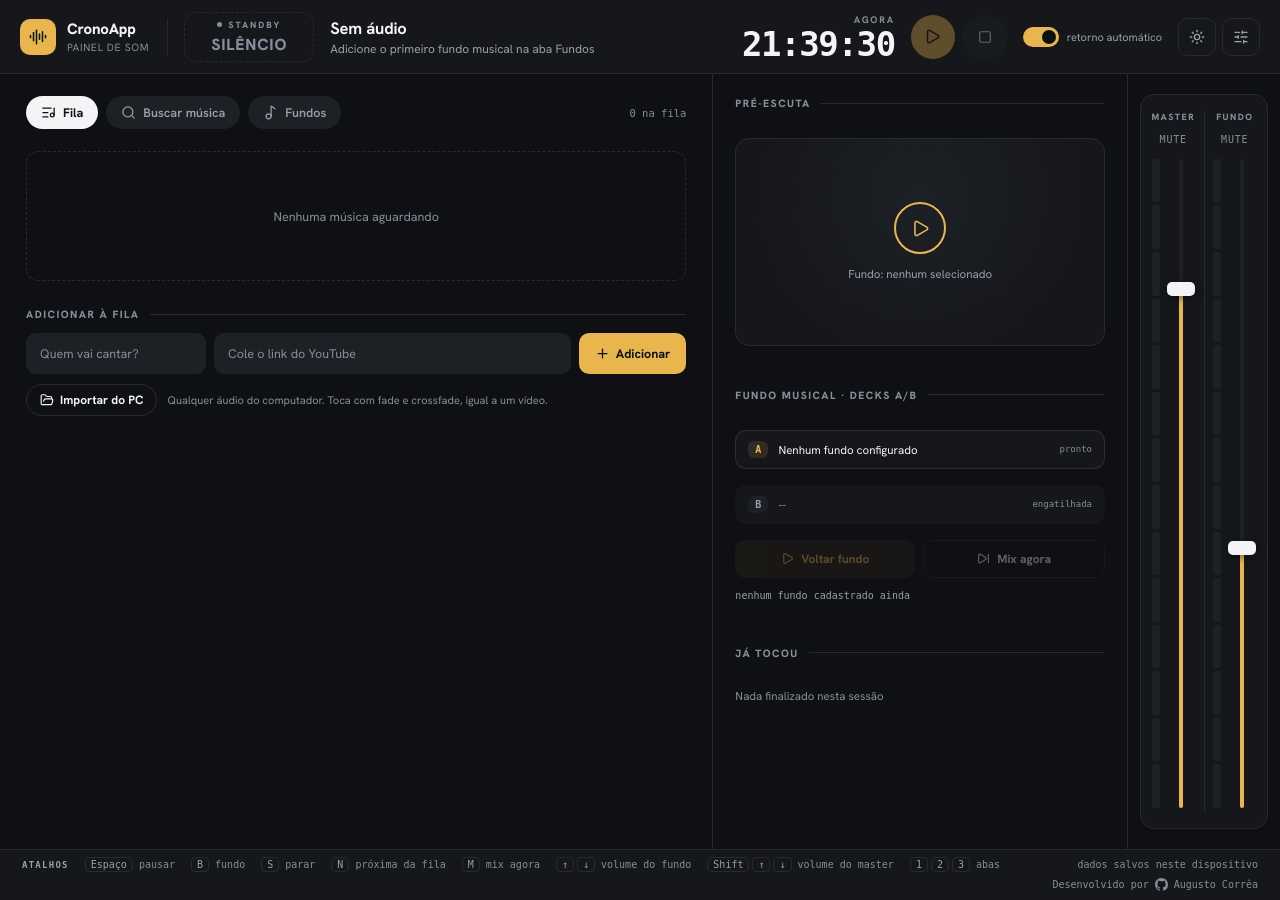
Test: cadastrar fundo colando o link (sem depender da busca) › sem nome, a faixa entra como "Fundo musical"
The width and height of the screenshot is (1280, 900).
Type keys "3"
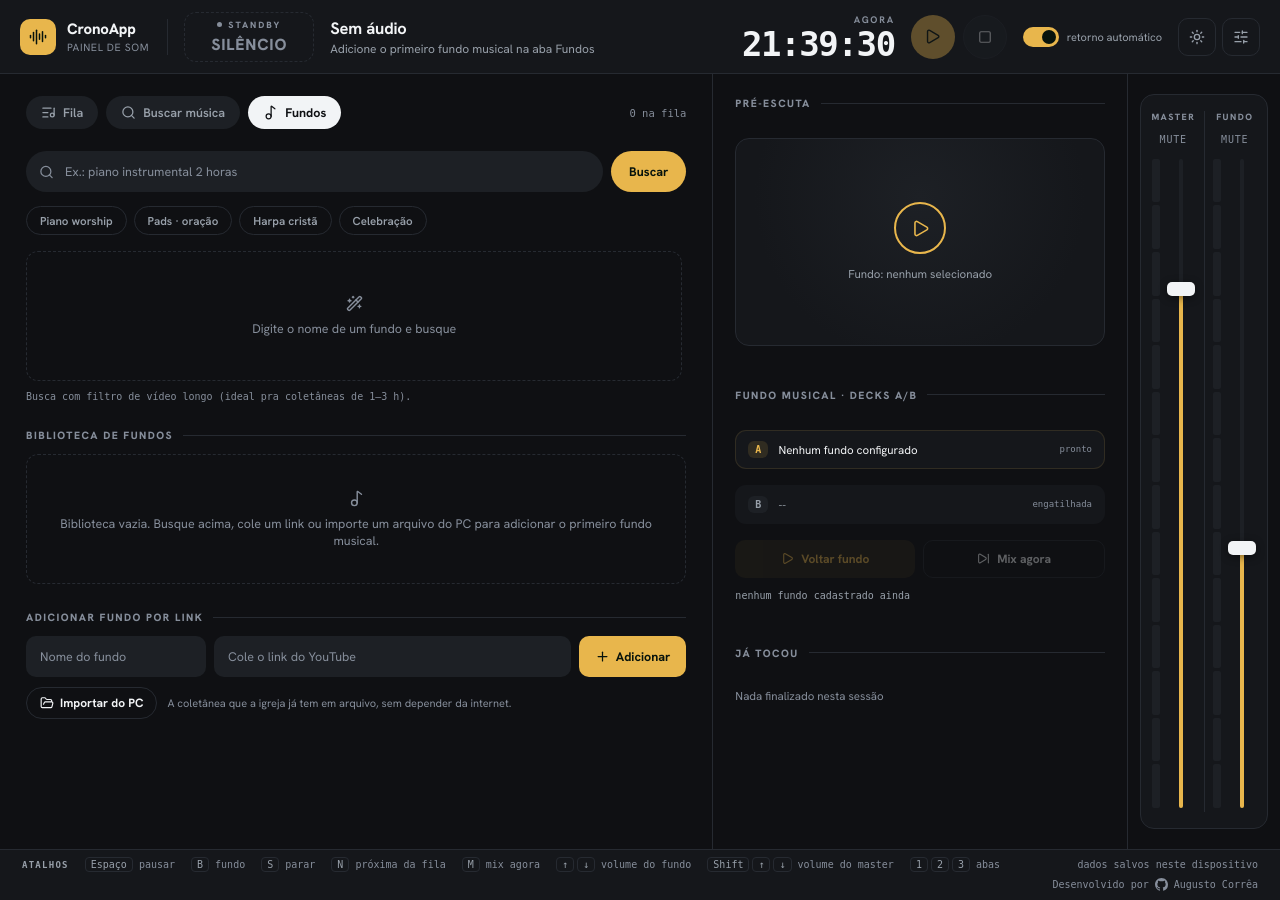
Type "https://youtu.be/M7lc1UVf-VE" into the field named "Link do fundo no YouTube".
click(392, 656); type("https://youtu.be/M7lc1UVf-VE")  # box [214,636,571,677]
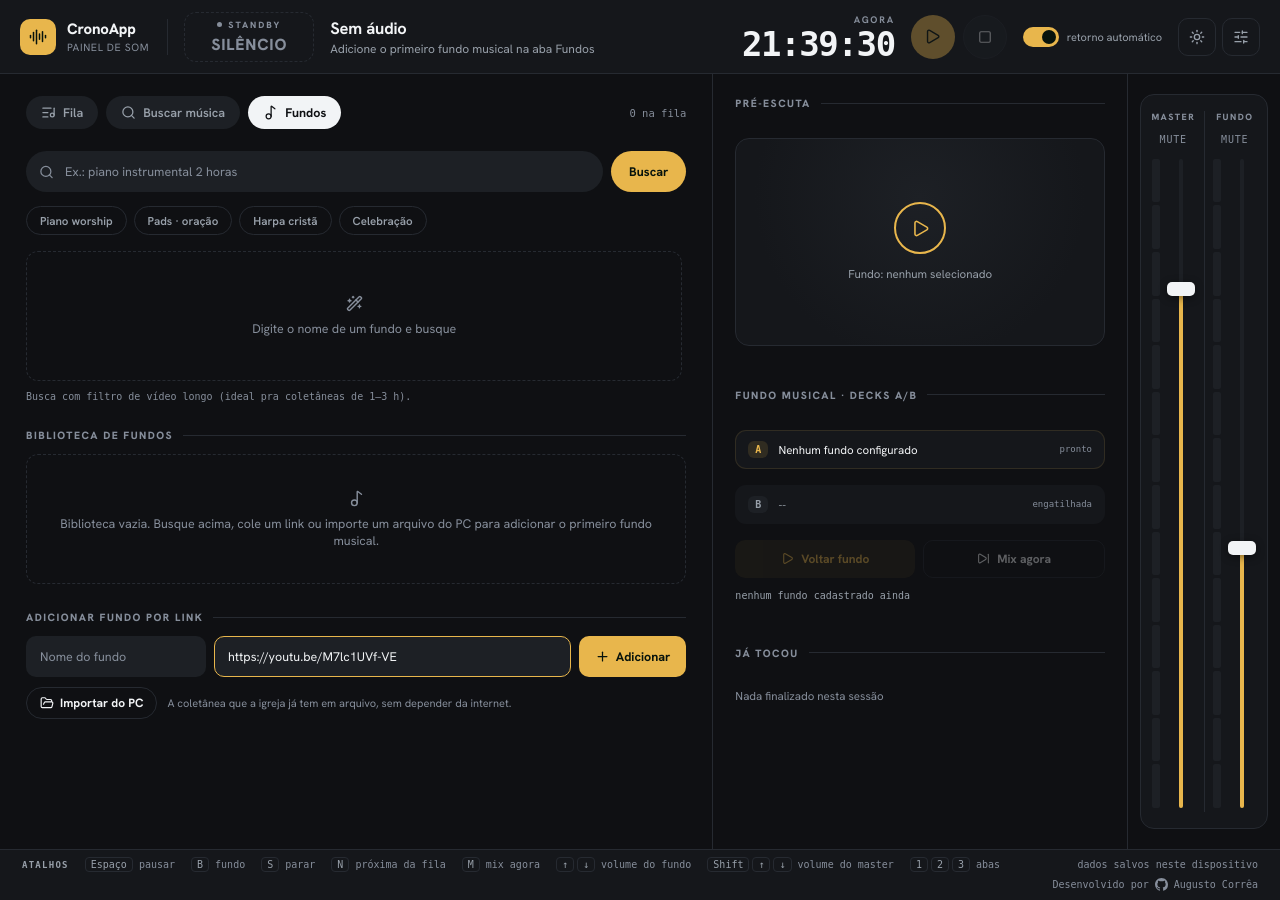
Click the button "Adicionar".
click(633, 656)  # box [579,636,686,677]
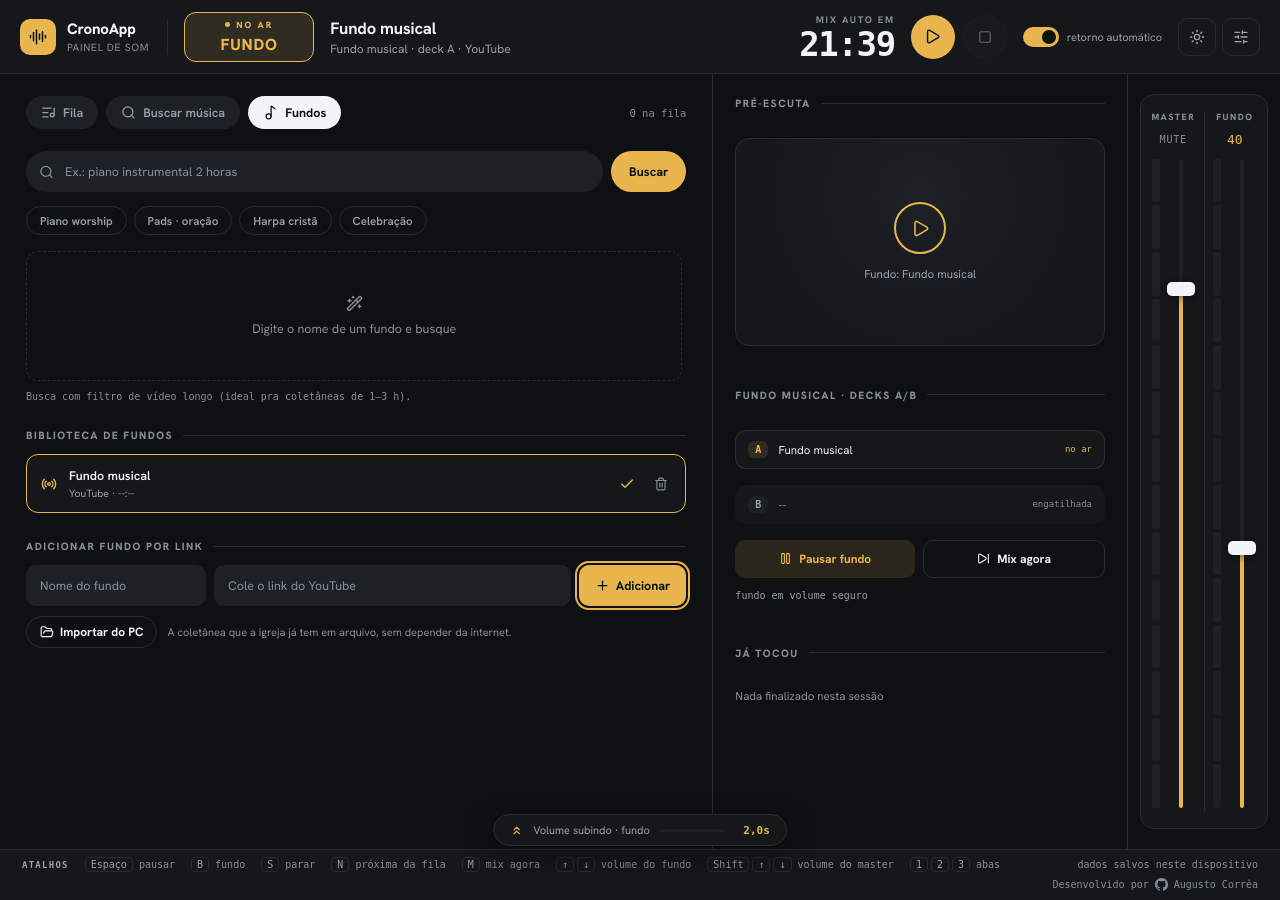
Expected: the text "Fundo musical" below "Biblioteca de fundos" is shown, [69,467,150,484]
